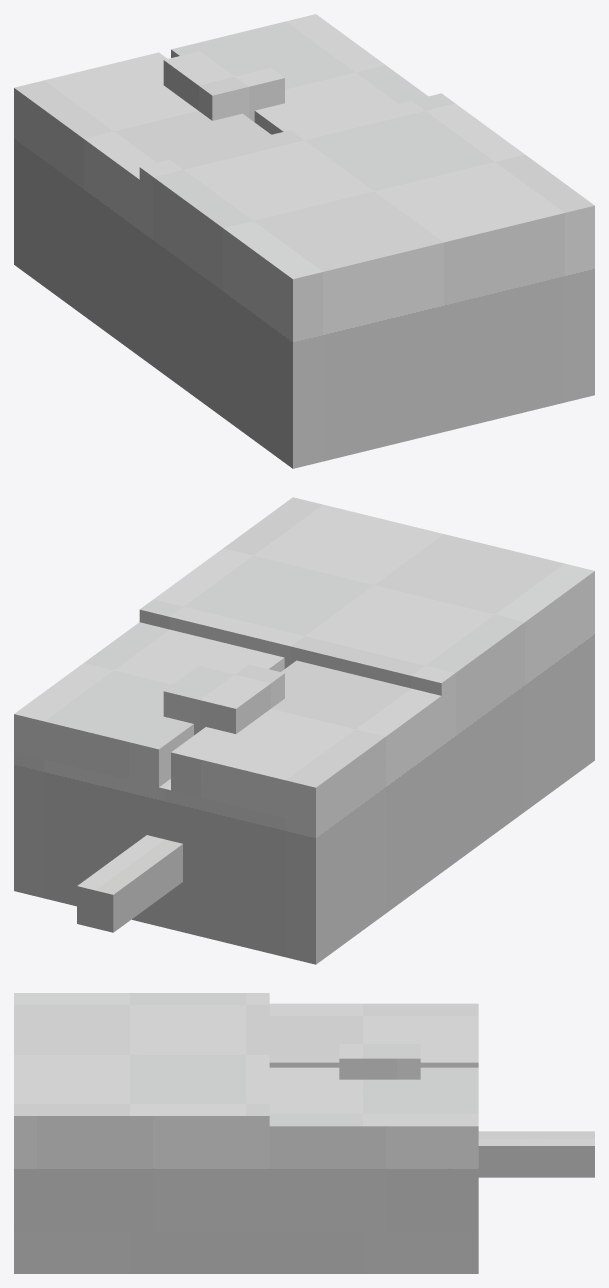
The model's file is mouse.gltf.
3 views of the same model, one above another, from view 1: azimuth 30°, elevation 25°; view 2: azimuth 150°, elevation 25°; view 3: azimuth 270°, elevation 25° (orthographic). The views are drawn at different scales.
Parts seen in each view (by area): view 1: cuerpo_trasero, base, boton_izquierdo, boton_derecho, cuerpo_delantero, rueda; view 2: cuerpo_trasero, cuerpo_delantero, boton_izquierdo, base, boton_derecho, rueda, cable; view 3: cuerpo_trasero, base, boton_derecho, cuerpo_delantero, boton_izquierdo, cable, rueda.
Boxes of the visible parts, x1,y1,x2,y2 form: cuerpo_trasero: (139, 93, 594, 418); base: (14, 214, 594, 468); boton_izquierdo: (14, 52, 271, 217); boton_derecho: (171, 14, 428, 134); cuerpo_delantero: (14, 126, 139, 305); rueda: (163, 42, 284, 121); cuerpo_trasero: (139, 497, 594, 821); cuerpo_delantero: (14, 734, 441, 913); boton_izquierdo: (171, 660, 441, 825); base: (14, 710, 594, 964); boton_derecho: (14, 622, 284, 787); rueda: (163, 655, 284, 735); cable: (77, 835, 182, 932); cuerpo_trasero: (14, 993, 269, 1231); base: (14, 1231, 478, 1273); boton_derecho: (269, 1067, 478, 1157); cuerpo_delantero: (269, 1158, 478, 1231); boton_izquierdo: (269, 1003, 478, 1067); cable: (478, 1131, 594, 1177); rueda: (339, 1029, 420, 1079).
Size of the model in its own units: 0.1562 by 0.1 by 0.3125.
3 materials, 3 textured.
